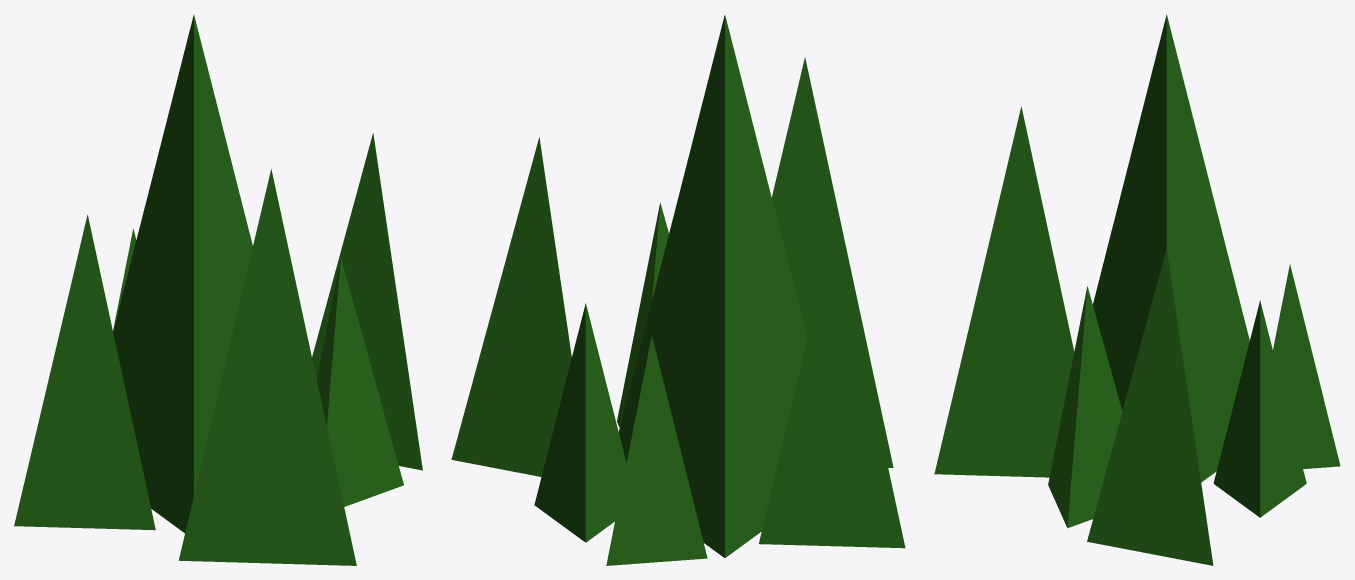
Rendered from Grass.fbx.
3 views of the same model, side by side, from view 1: azimuth 30°, elevation 25°; view 2: azimuth 150°, elevation 25°; view 3: azimuth 270°, elevation 25° (orthographic). The views are drawn at different scales.
Parts seen in each view (by area): view 1: Grass; view 2: Grass; view 3: Grass.
Boxes of the visible parts, bbox=[...] form: Grass: bbox=[14, 14, 422, 565]; Grass: bbox=[451, 15, 905, 565]; Grass: bbox=[934, 14, 1340, 565].
Bounding box in the file's own units: 32.62 × 35.24 × 29.33.
